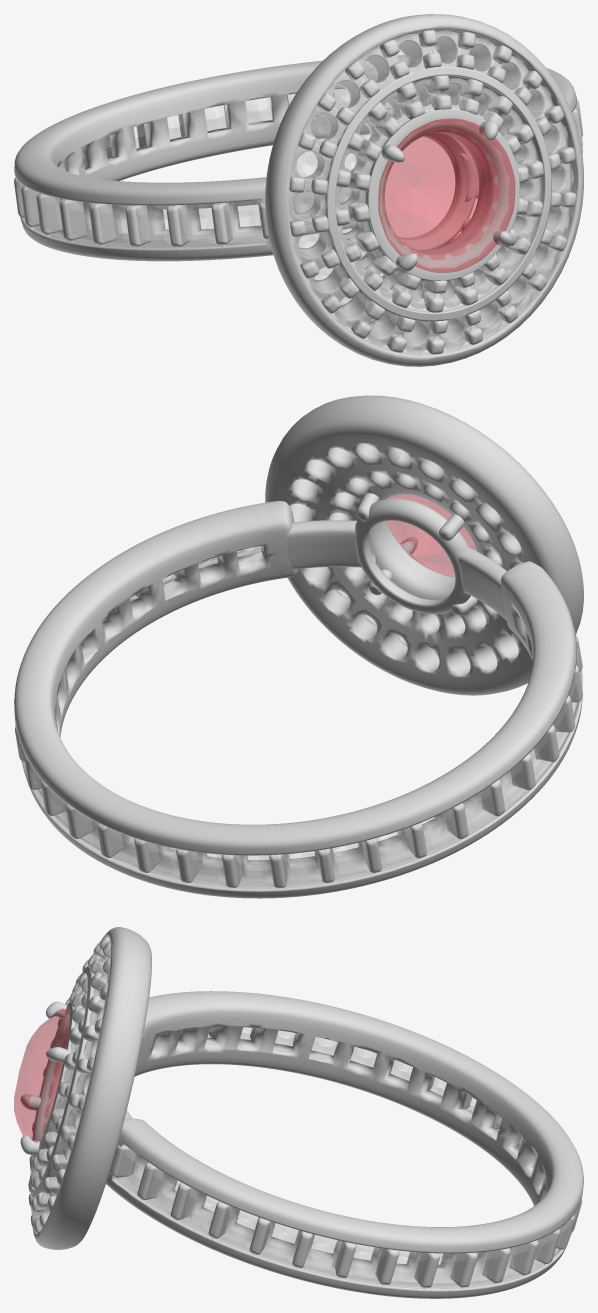
File: anillo4.glb
3 renders of one model, top to bottom at view 1: azimuth 30°, elevation 25°; view 2: azimuth 150°, elevation 25°; view 3: azimuth 270°, elevation 25°, orthographic. The views are drawn at different scales.
Visible parts, largest first — view 1: anillo 4, piedras 4, piedras 4.001; view 2: anillo 4, piedras 4, piedras 4.001; view 3: anillo 4, piedras 4, piedras 4.001.
Boxes of the visible parts, bbox=[...] form: anillo 4: bbox=[14, 14, 583, 366]; piedras 4: bbox=[16, 30, 582, 353]; piedras 4.001: bbox=[378, 119, 514, 272]; anillo 4: bbox=[14, 395, 583, 898]; piedras 4: bbox=[15, 546, 582, 887]; piedras 4.001: bbox=[387, 494, 476, 576]; anillo 4: bbox=[20, 927, 583, 1298]; piedras 4: bbox=[30, 941, 578, 1287]; piedras 4.001: bbox=[14, 1008, 68, 1142].
Size of the model in its own units: 22 by 13.35 by 23.66.
